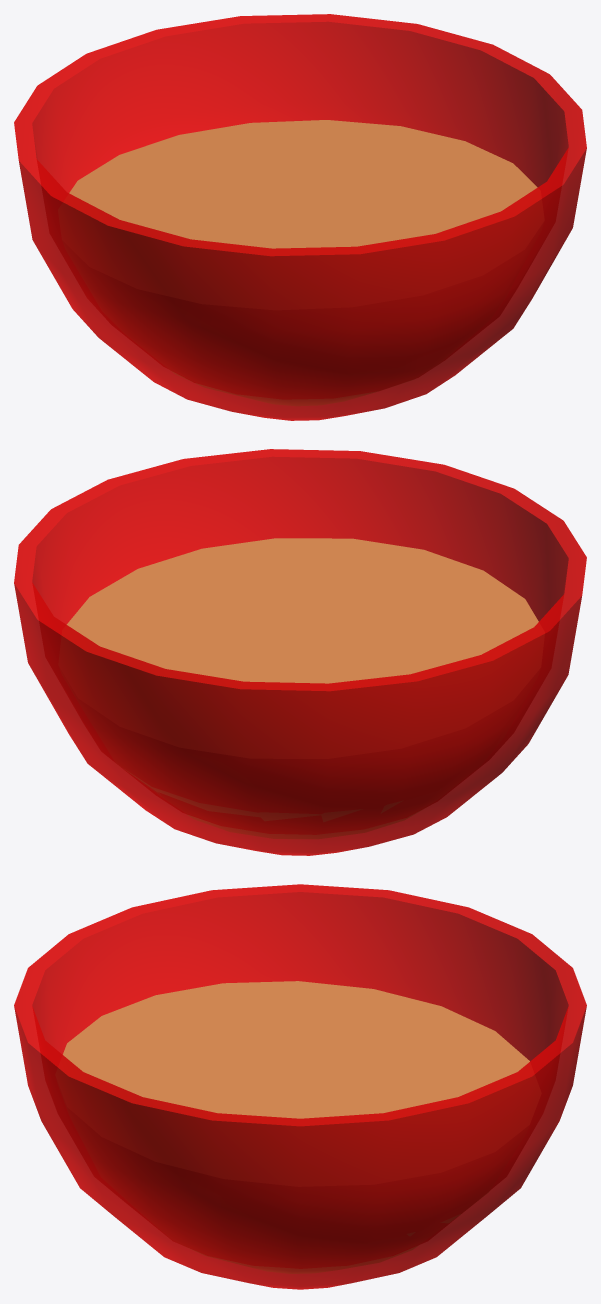
File: cake mixing bowl.fbx
The picture shows the model from 3 angles, top to bottom: view 1: azimuth 30°, elevation 25°; view 2: azimuth 150°, elevation 25°; view 3: azimuth 270°, elevation 25°; orthographic projection.
Parts seen in each view (by area): view 1: bowl, Sphere001; view 2: bowl, Sphere001; view 3: bowl, Sphere001.
Part boxes in pixels (x1,y1,x2,y2): bowl: [14, 14, 586, 420]; Sphere001: [69, 120, 537, 405]; bowl: [14, 449, 586, 855]; Sphere001: [66, 538, 538, 838]; bowl: [14, 884, 586, 1289]; Sphere001: [63, 981, 529, 1273].
Bounding box in the file's own units: 40.3 × 19.34 × 40.3.
